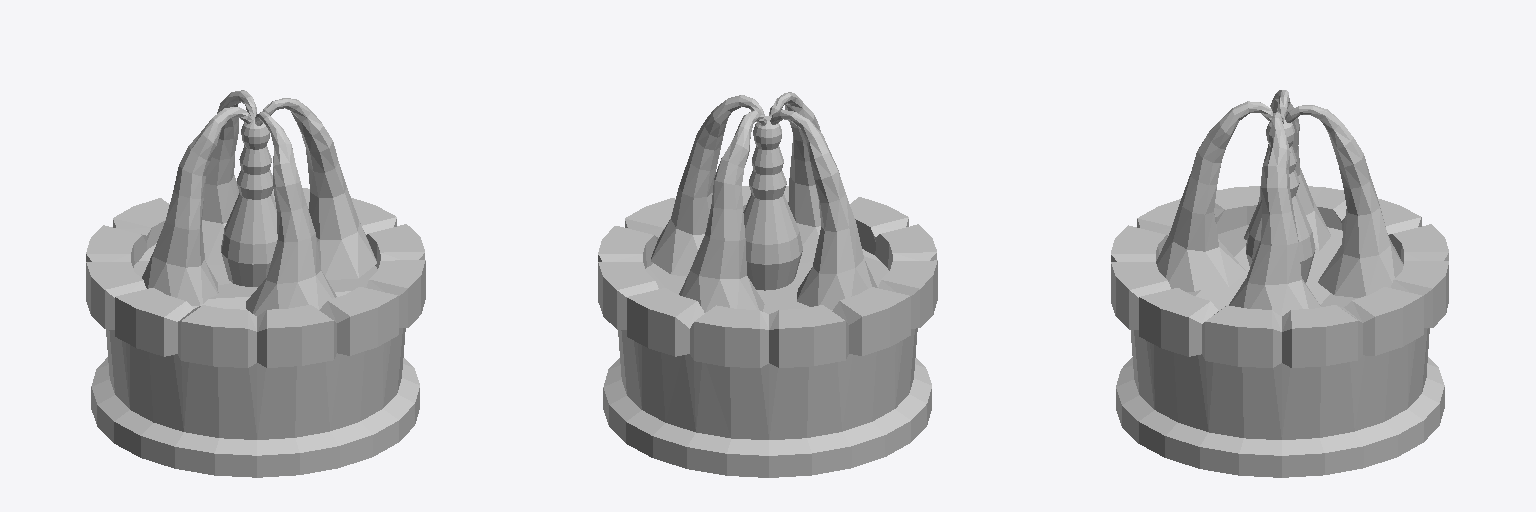
The model's file is fountain.obj.
3 views of the same model, side by side, from view 1: azimuth 30°, elevation 25°; view 2: azimuth 150°, elevation 25°; view 3: azimuth 270°, elevation 25° (orthographic).
Visible parts, largest first — view 1: park0908:field:group1 group park0908:field:StoneFBXASC046001, park0908:field:CylinderFBXASC046007 park0908:field:group1 group, park0908:field:group1 group park0908:field:CylinderFBXASC046008, park0908:field:group1 group park0908:field:CylinderFBXASC046009, park0908:field:group1 group park0908:field:CylinderFBXASC046006, park0908:field:group1 group park0908:field:CircleFBXASC046003; view 2: park0908:field:group1 group park0908:field:StoneFBXASC046001, park0908:field:group1 group park0908:field:CylinderFBXASC046006, park0908:field:CylinderFBXASC046007 park0908:field:group1 group, park0908:field:group1 group park0908:field:CylinderFBXASC046009, park0908:field:group1 group park0908:field:CylinderFBXASC046008, park0908:field:group1 group park0908:field:CircleFBXASC046003; view 3: park0908:field:group1 group park0908:field:StoneFBXASC046001, park0908:field:group1 group park0908:field:CylinderFBXASC046008, park0908:field:group1 group park0908:field:CylinderFBXASC046006, park0908:field:group1 group park0908:field:CylinderFBXASC046009, park0908:field:group1 group park0908:field:CircleFBXASC046003, park0908:field:CylinderFBXASC046007 park0908:field:group1 group.
Boxes of the visible parts, x1,y1,x2,y2 form: park0908:field:group1 group park0908:field:StoneFBXASC046001: [86, 116, 425, 477]; park0908:field:CylinderFBXASC046007 park0908:field:group1 group: [142, 107, 251, 305]; park0908:field:group1 group park0908:field:CylinderFBXASC046008: [246, 111, 336, 316]; park0908:field:group1 group park0908:field:CylinderFBXASC046009: [263, 98, 376, 279]; park0908:field:group1 group park0908:field:CylinderFBXASC046006: [202, 90, 256, 264]; park0908:field:group1 group park0908:field:CircleFBXASC046003: [133, 243, 377, 309]; park0908:field:group1 group park0908:field:StoneFBXASC046001: [598, 116, 937, 477]; park0908:field:group1 group park0908:field:CylinderFBXASC046006: [679, 110, 766, 312]; park0908:field:CylinderFBXASC046007 park0908:field:group1 group: [770, 109, 877, 309]; park0908:field:group1 group park0908:field:CylinderFBXASC046009: [651, 95, 764, 276]; park0908:field:group1 group park0908:field:CylinderFBXASC046008: [769, 92, 820, 262]; park0908:field:group1 group park0908:field:CircleFBXASC046003: [646, 249, 888, 313]; park0908:field:group1 group park0908:field:StoneFBXASC046001: [1111, 116, 1448, 477]; park0908:field:group1 group park0908:field:CylinderFBXASC046008: [1156, 101, 1272, 291]; park0908:field:group1 group park0908:field:CylinderFBXASC046006: [1285, 105, 1403, 297]; park0908:field:group1 group park0908:field:CylinderFBXASC046009: [1229, 112, 1320, 316]; park0908:field:group1 group park0908:field:CircleFBXASC046003: [1187, 225, 1357, 310]; park0908:field:CylinderFBXASC046007 park0908:field:group1 group: [1244, 90, 1330, 252].
Size of the model in its own units: 17.09 by 16.92 by 17.05.